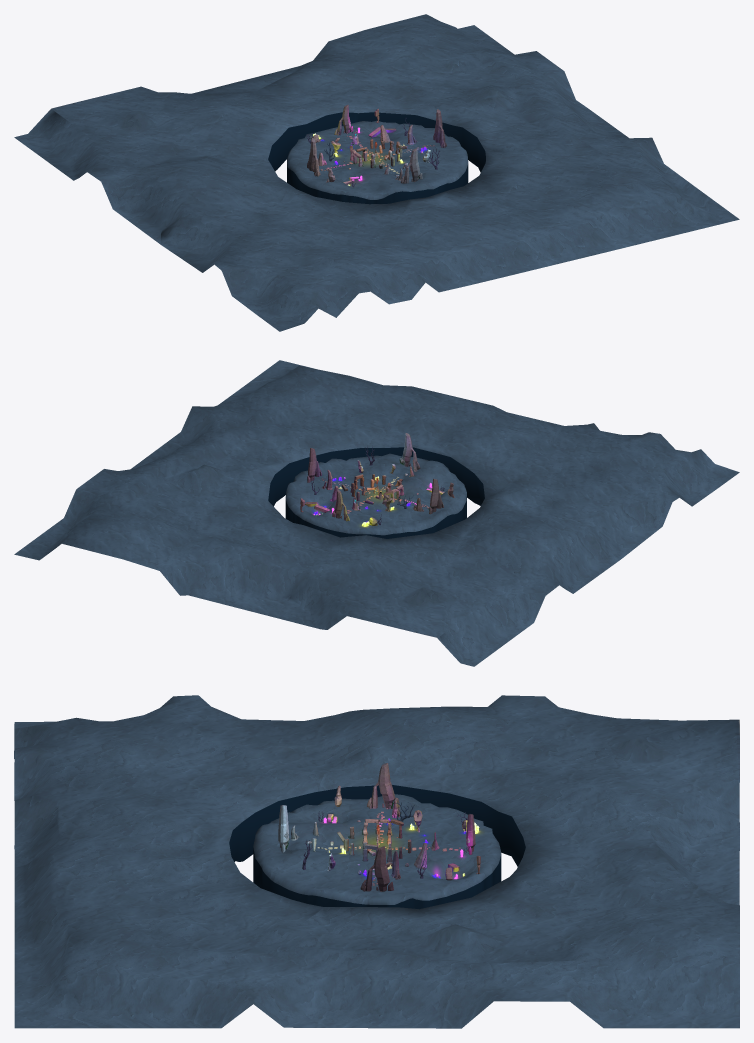
File: portalworld13.glb
The picture shows the model from 3 angles, top to bottom: view 1: azimuth 30°, elevation 25°; view 2: azimuth 150°, elevation 25°; view 3: azimuth 270°, elevation 25°; orthographic projection. The views are drawn at different scales.
Visible parts, largest first — view 1: ground02, ground, epicrocks, randomrocks; view 2: ground02, ground, epicrocks, randomrocks; view 3: ground02, ground, epicrocks, mediumrocks, randomrocks.
Boxes of the visible parts, x1=… form: ground02: x1=14, y1=14, x2=739, y2=331; ground: x1=287, y1=120, x2=468, y2=204; epicrocks: x1=307, y1=104, x2=446, y2=183; randomrocks: x1=311, y1=108, x2=402, y2=184; ground02: x1=14, y1=360, x2=739, y2=666; ground: x1=285, y1=453, x2=466, y2=538; epicrocks: x1=307, y1=433, x2=443, y2=521; randomrocks: x1=300, y1=459, x2=454, y2=525; ground02: x1=14, y1=695, x2=739, y2=1028; ground: x1=253, y1=794, x2=501, y2=909; epicrocks: x1=278, y1=763, x2=475, y2=891; mediumrocks: x1=311, y1=810, x2=427, y2=879; randomrocks: x1=291, y1=785, x2=480, y2=880.
Bounding box in the file's own units: 1452 × 205 × 1453.
24 materials, 12 textured.
